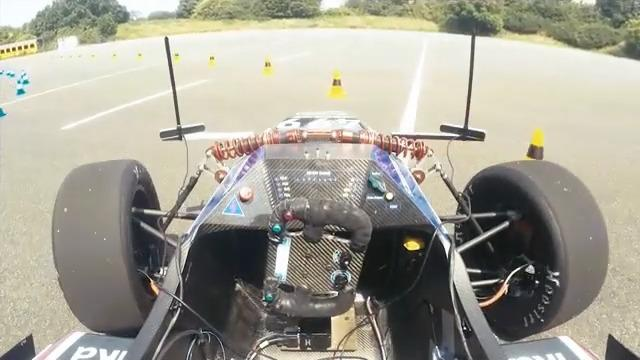blue_cone: (15, 82, 25, 96), (0, 103, 9, 117), (22, 73, 30, 85), (5, 70, 11, 80), (11, 72, 15, 80)
yellow_cone: (510, 124, 559, 207), (327, 67, 347, 99), (260, 56, 274, 78), (207, 53, 217, 70), (171, 50, 182, 65), (136, 51, 145, 64), (90, 53, 96, 63), (112, 52, 117, 63), (78, 55, 83, 62), (69, 56, 73, 62)
